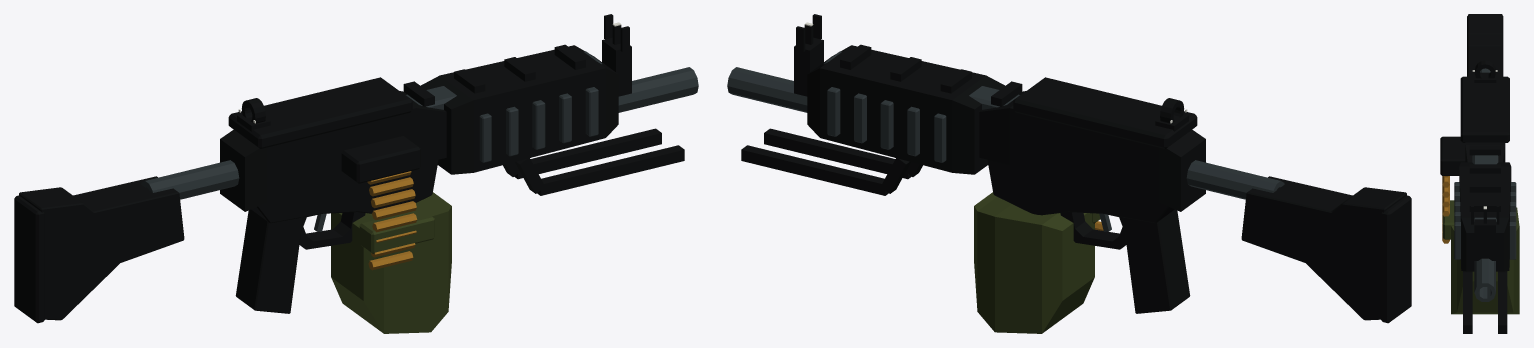
The model's file is CE_Gun_FightLiteMCR.obj.
3 views of the same model, side by side, from view 1: azimuth 30°, elevation 25°; view 2: azimuth 150°, elevation 25°; view 3: azimuth 270°, elevation 25° (orthographic). The views are drawn at different scales.
Parts seen in each view (by area): view 1: MCR_deep_quad_rail_handguard, MCR_compact_formed_stock, MCR_AR_upper_receiver, MCR_rounded_canvas_belt_bag, MCR_hinged_feed_cover, MCR_sloped_pistol_grip, MCR_AR_magazine_well_lower, MCR_rubber_shoulder_plate, MCR_side_feed_tray, MCR_forward_folded_leg.001, MCR_forward_folded_leg, MCR_buffer_tube (+11 smaller); view 2: MCR_rounded_canvas_belt_bag, MCR_deep_quad_rail_handguard, MCR_compact_formed_stock, MCR_AR_upper_receiver, MCR_hinged_feed_cover, MCR_AR_magazine_well_lower, MCR_sloped_pistol_grip, MCR_rubber_shoulder_plate, MCR_forward_folded_leg, MCR_forward_folded_leg.001, MCR_buffer_tube, Hollow_barrel (+9 smaller); view 3: MCR_deep_quad_rail_handguard, MCR_hinged_feed_cover, MCR_rounded_canvas_belt_bag, MCR_compact_formed_stock, MCR_side_feed_tray, Hollow_barrel, R3_Front_physically_seated_ramp, MCR_forward_folded_leg, MCR_forward_folded_leg.001, MCR_AR_upper_receiver, Rail_lug.003, Optic_rail (+14 smaller).
Boxes of the visible parts, x1,y1,x2,y2 form: MCR_deep_quad_rail_handguard: [420, 45, 618, 174]; MCR_compact_formed_stock: [19, 176, 184, 320]; MCR_AR_upper_receiver: [220, 91, 446, 211]; MCR_rounded_canvas_belt_bag: [331, 192, 451, 333]; MCR_hinged_feed_cover: [228, 77, 412, 148]; MCR_sloped_pistol_grip: [235, 209, 302, 313]; MCR_AR_magazine_well_lower: [251, 159, 438, 223]; MCR_rubber_shoulder_plate: [14, 195, 44, 323]; MCR_side_feed_tray: [341, 136, 420, 183]; MCR_forward_folded_leg.001: [537, 145, 684, 195]; MCR_forward_folded_leg: [514, 128, 661, 179]; MCR_buffer_tube: [141, 160, 239, 199]; MCR_rounded_canvas_belt_bag: [974, 192, 1094, 333]; MCR_deep_quad_rail_handguard: [807, 45, 1005, 174]; MCR_compact_formed_stock: [1241, 176, 1406, 320]; MCR_AR_upper_receiver: [979, 91, 1205, 211]; MCR_hinged_feed_cover: [1013, 77, 1197, 148]; MCR_AR_magazine_well_lower: [987, 159, 1174, 223]; MCR_sloped_pistol_grip: [1123, 209, 1190, 313]; MCR_rubber_shoulder_plate: [1381, 195, 1411, 323]; MCR_forward_folded_leg: [741, 145, 888, 195]; MCR_forward_folded_leg.001: [764, 128, 911, 179]; MCR_buffer_tube: [1186, 160, 1284, 199]; Hollow_barrel: [727, 67, 807, 112]; MCR_deep_quad_rail_handguard: [1459, 162, 1511, 271]; MCR_hinged_feed_cover: [1460, 76, 1509, 142]; MCR_rounded_canvas_belt_bag: [1451, 207, 1519, 314]; MCR_compact_formed_stock: [1468, 14, 1502, 76]; MCR_side_feed_tray: [1440, 136, 1465, 175]; Hollow_barrel: [1474, 258, 1495, 301]; R3_Front_physically_seated_ramp: [1474, 219, 1495, 260]; MCR_forward_folded_leg: [1498, 273, 1507, 333]; MCR_forward_folded_leg.001: [1463, 273, 1472, 333]; MCR_AR_upper_receiver: [1465, 142, 1505, 162]; Rail_lug.003: [1469, 145, 1500, 155]; Optic_rail: [1472, 155, 1498, 221].
Size of the model in its own units: 1.25 by 0.454 by 0.1675.
